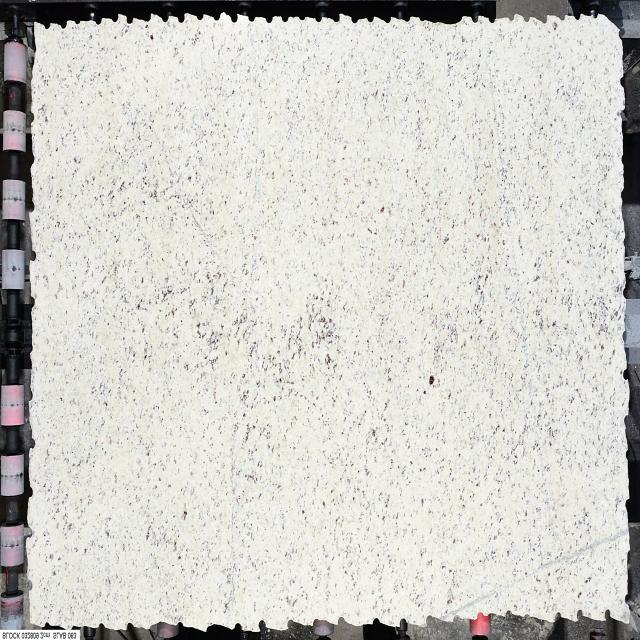chapa: (28, 15, 629, 628)
furo: (594, 0, 628, 55)
veio: (175, 9, 188, 29), (122, 12, 136, 28), (24, 578, 36, 596), (602, 606, 614, 624), (27, 196, 37, 216), (550, 610, 562, 626), (469, 11, 482, 25), (25, 524, 35, 542), (58, 16, 68, 33), (228, 12, 240, 26), (396, 616, 408, 630), (284, 618, 296, 632), (574, 607, 584, 623), (258, 618, 268, 634), (26, 389, 36, 404), (160, 13, 170, 27), (246, 12, 256, 26), (43, 17, 51, 34), (110, 13, 120, 26), (28, 436, 36, 452), (92, 17, 102, 29), (195, 12, 205, 24), (264, 12, 274, 24), (30, 250, 38, 264)
